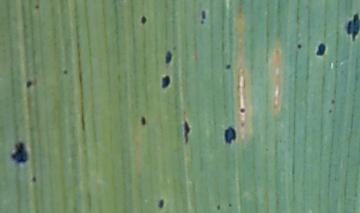tarspot: (11, 140, 28, 164), (346, 14, 360, 41), (224, 125, 237, 144), (182, 121, 191, 142), (160, 74, 171, 89), (315, 43, 326, 56), (164, 50, 173, 64), (140, 114, 147, 127), (25, 80, 33, 89), (140, 15, 147, 25), (158, 199, 165, 209), (200, 10, 207, 20), (30, 176, 38, 183), (34, 3, 41, 10), (327, 107, 334, 114), (63, 68, 69, 75), (225, 64, 232, 70), (330, 98, 337, 104), (297, 42, 302, 50), (216, 204, 222, 210), (227, 202, 233, 208), (239, 108, 246, 113), (200, 20, 205, 26)
